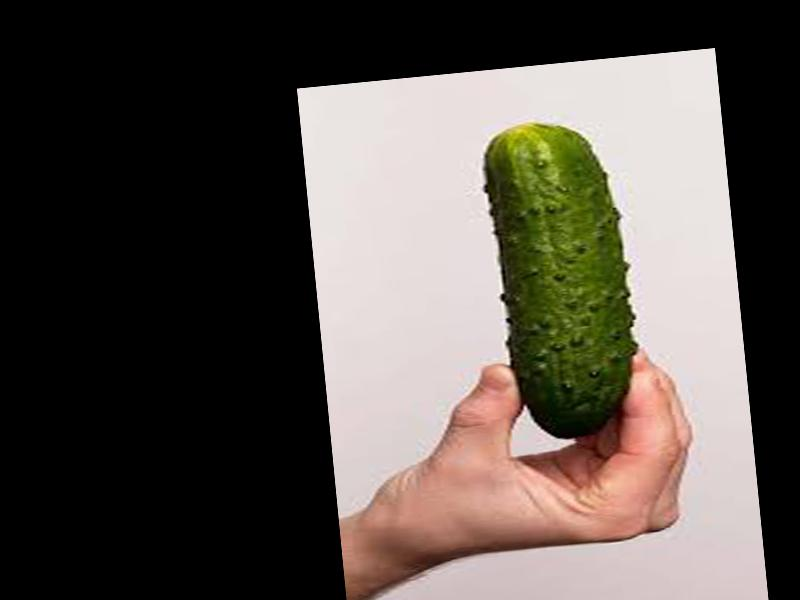Cucumber: (490, 117, 643, 443)
